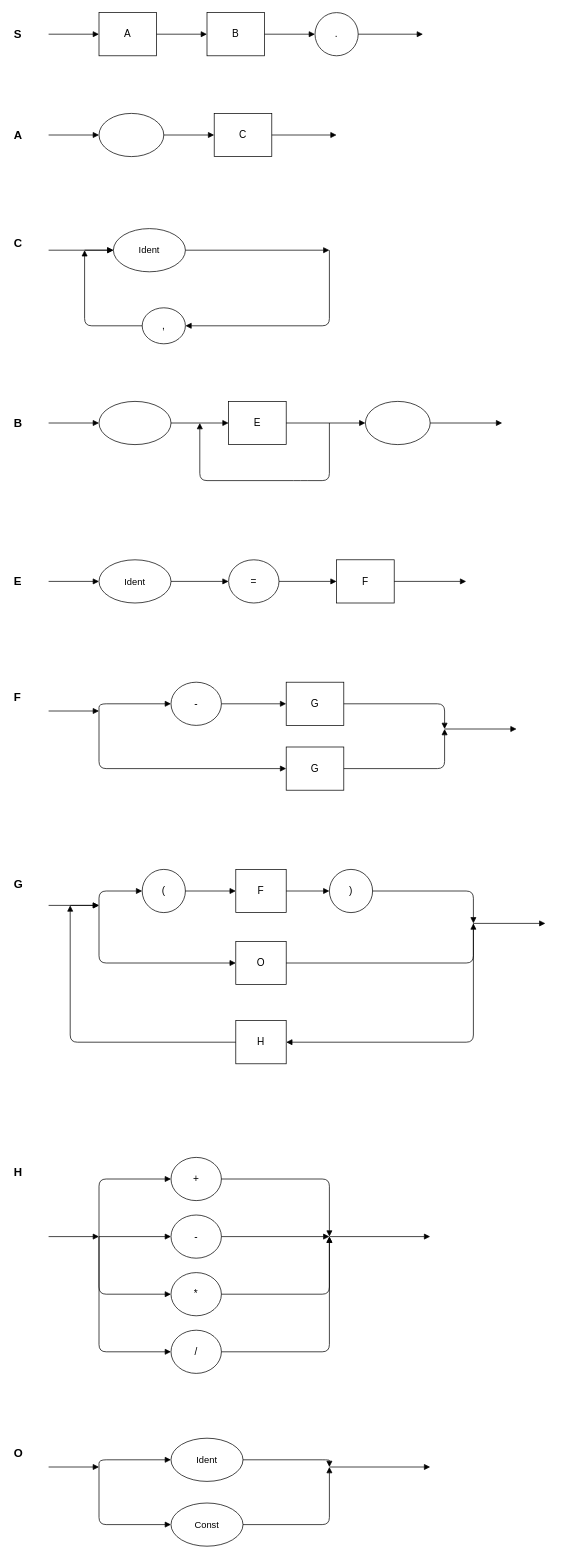
The diagram is 564 pixels wide and 1559 high, and some of its shapes have lost their labels. The shapes that lost their labels are listed below. From the top down, each one's centre as x and y in pixels, then its label:
At point (131, 135): "Var".
At point (134, 423): "Begin".
At point (397, 423): "End".
